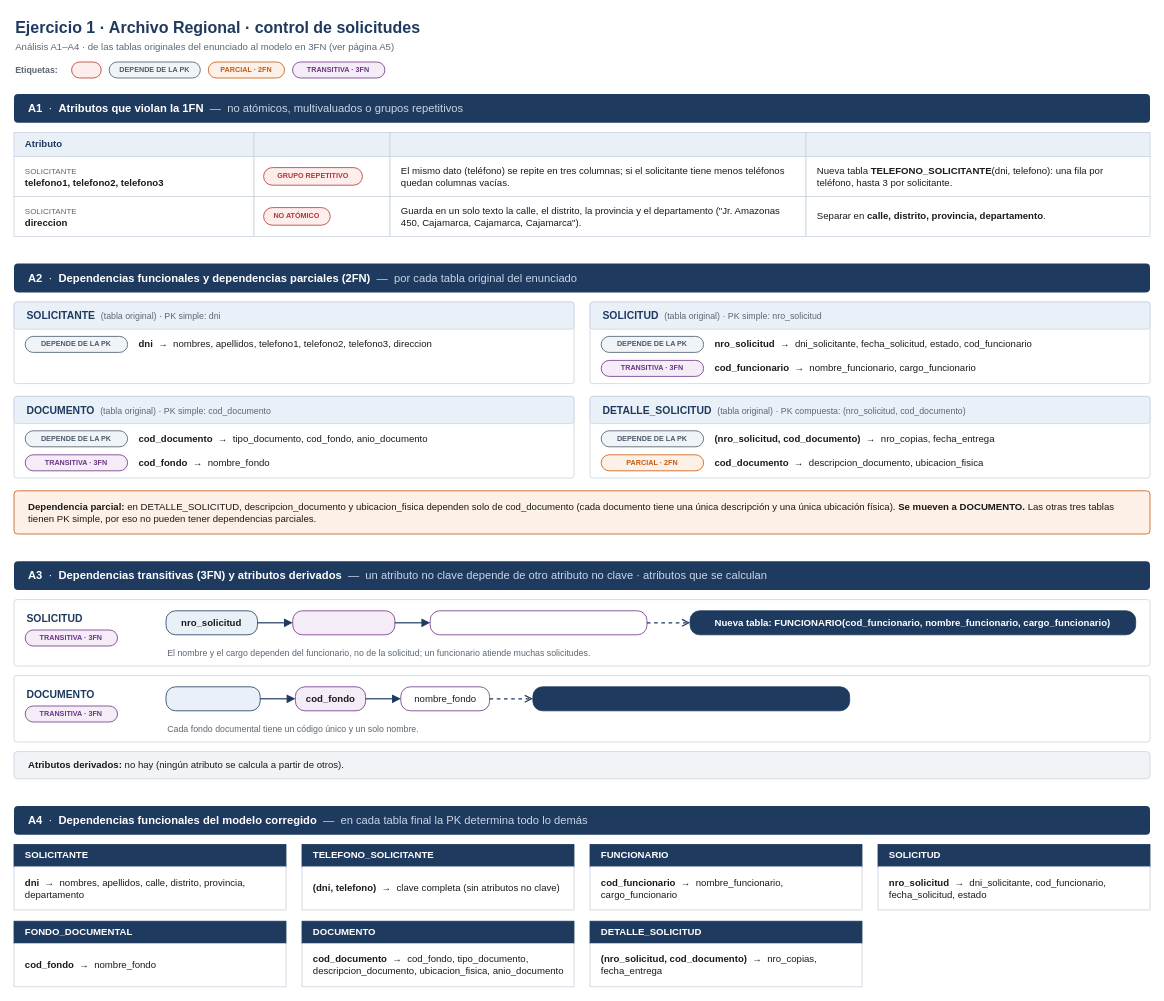
Image size: 1164x1001. Some labels were removed from this diagram. The shapes that lost their labels are listed below. From the top down, each one's centre as x and y in pixels, then its label:
[86,69]: 1FN
[321,144]: Problema
[597,144]: Por qué viola la 1FN
[977,144]: Solución
[343,622]: cod_funcionario
[538,622]: nombre_funcionario, cargo_funcionario
[212,698]: cod_documento
[691,698]: Nueva tabla: FONDO_DOCUMENTAL(cod_fondo, nombre_fondo)
